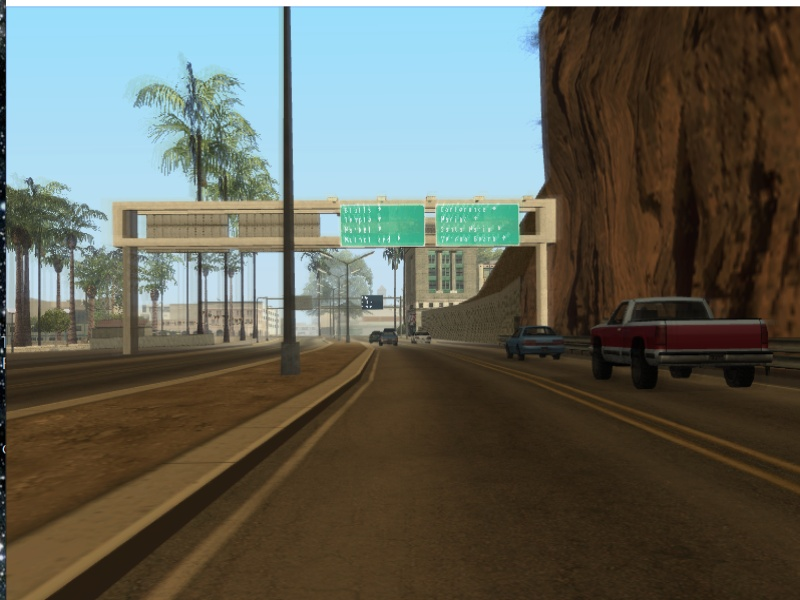pole: (273, 8, 304, 379), (119, 248, 144, 362), (529, 244, 558, 328), (343, 264, 354, 343)
tree: (11, 241, 28, 348), (217, 254, 235, 345), (65, 244, 79, 344)
vehicle: (585, 293, 775, 400), (501, 323, 567, 362), (410, 331, 433, 347), (377, 331, 400, 346)
